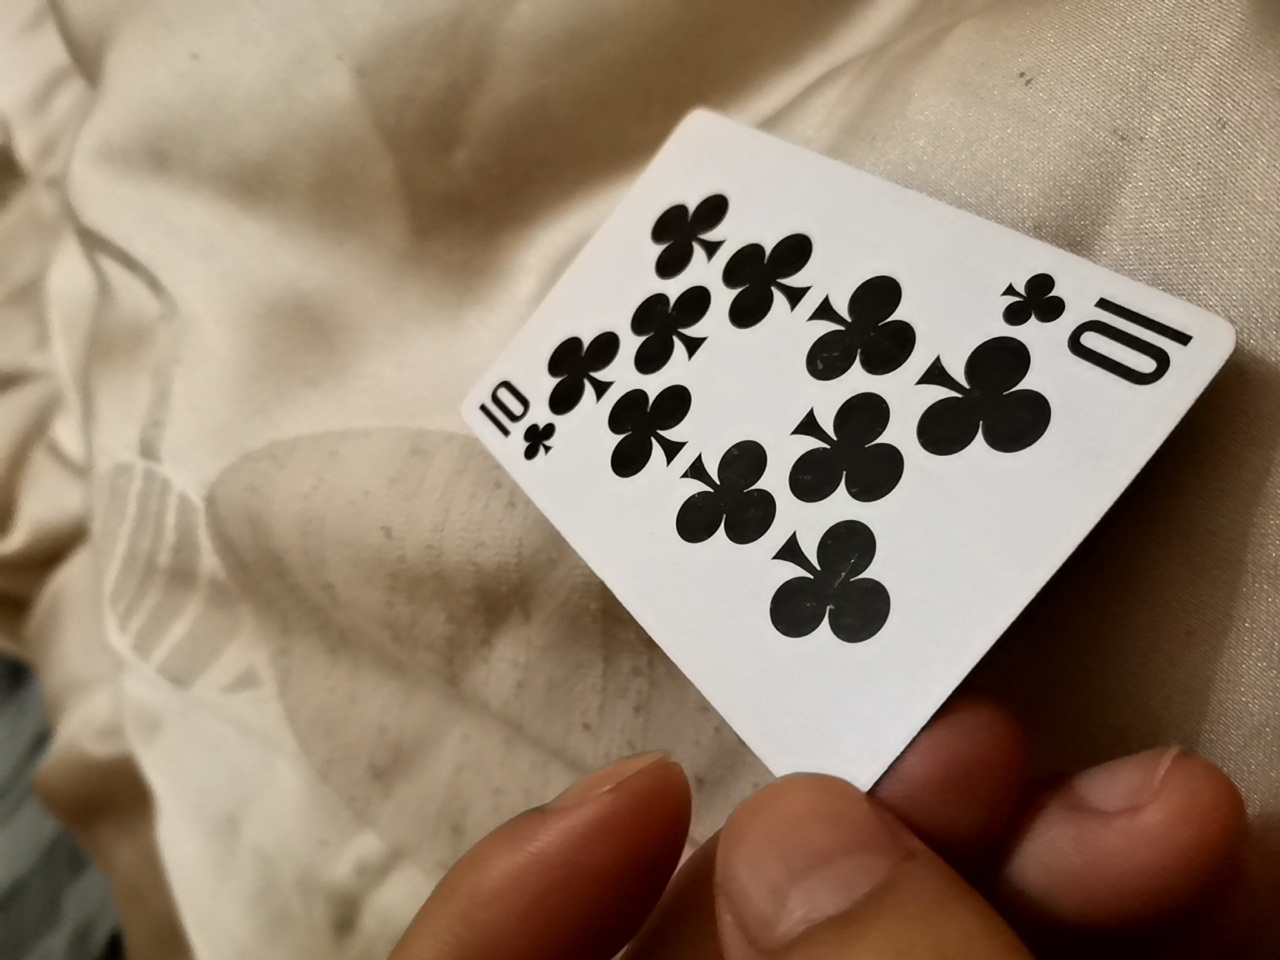mh 10: (438, 90, 1206, 815)
